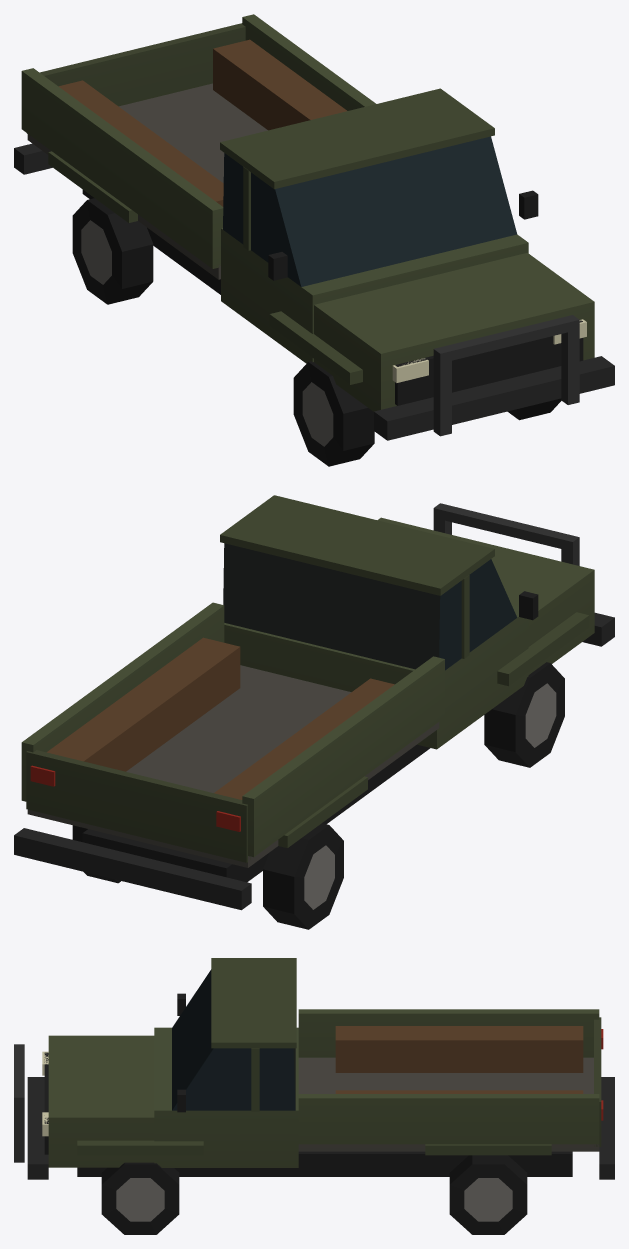
The model's file is ub_btruck_lod1.glb.
3 renders of one model, top to bottom at view 1: azimuth 30°, elevation 25°; view 2: azimuth 150°, elevation 25°; view 3: azimuth 270°, elevation 25°, orthographic. The views are drawn at different scales.
Visible parts, largest first — view 1: ub_btruck_lod1; view 2: ub_btruck_lod1; view 3: ub_btruck_lod1.
Boxes of the visible parts, <box> form: ub_btruck_lod1: <box>14,14,614,466</box>; ub_btruck_lod1: <box>14,495,614,929</box>; ub_btruck_lod1: <box>14,958,614,1234</box>.
Size of the model in its own units: 2.28 by 2.01 by 5.7.
